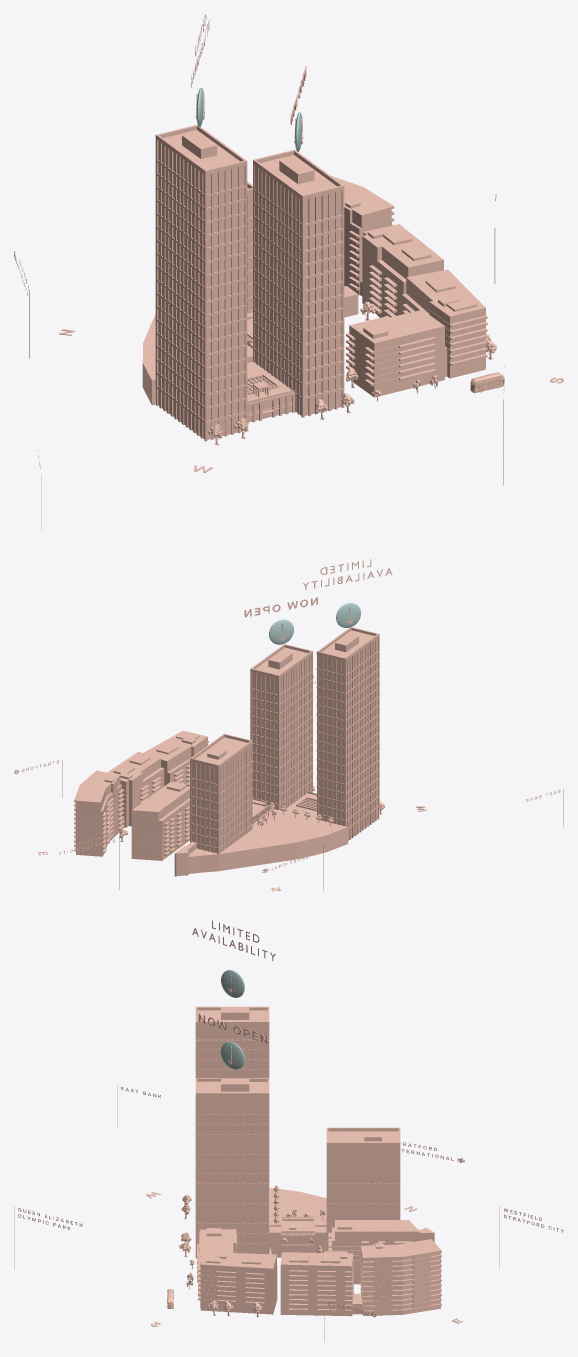
The model's file is CMS25.gltf.
3 views of the same model, one above another, from view 1: azimuth 30°, elevation 25°; view 2: azimuth 150°, elevation 25°; view 3: azimuth 270°, elevation 25° (orthographic). The views are drawn at different scales.
Parts seen in each view (by area): view 1: Xavier, Bussell, Hows, Sandhu, Bulk, Harrison; view 2: Xavier, Bussell, Harrison, Bulk, Sandhu, Aarons, Hows, Arrow3, Arrow, Open2; view 3: Bussell, Sandhu, Harrison, Hows, Xavier, Bulk, Aarons, Arrow3, Arrow.
Boxes of the visible parts, x1,y1,x2,y2 form: Xavier: [155, 124, 247, 441]; Bussell: [253, 149, 344, 417]; Hows: [346, 269, 487, 397]; Sandhu: [331, 176, 443, 317]; Bulk: [29, 227, 563, 530]; Harrison: [247, 181, 252, 313]; Xavier: [316, 627, 379, 841]; Bussell: [250, 644, 312, 810]; Harrison: [174, 733, 252, 876]; Bulk: [38, 759, 563, 891]; Sandhu: [74, 752, 164, 856]; Aarons: [131, 781, 189, 860]; Hows: [143, 730, 209, 786]; Arrow3: [269, 619, 293, 644]; Arrow: [336, 602, 360, 627]; Open2: [303, 559, 392, 589]; Bussell: [195, 1078, 269, 1258]; Sandhu: [280, 1239, 441, 1316]; Harrison: [326, 1127, 434, 1251]; Hows: [197, 1228, 277, 1314]; Xavier: [195, 1006, 269, 1078]; Bulk: [14, 1086, 499, 1342]; Aarons: [328, 1220, 419, 1284]; Arrow3: [220, 1041, 244, 1069]; Arrow: [221, 970, 244, 997].
Size of the model in its own units: 308 by 181 by 313.
Materials: 3 (2 with a texture image).
